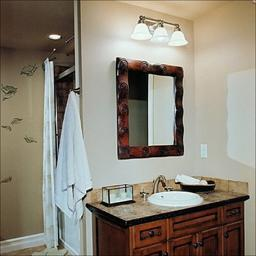Armario: (92, 193, 246, 253)
Ducha: (47, 57, 86, 253)
Lavamanos: (141, 173, 209, 209)
